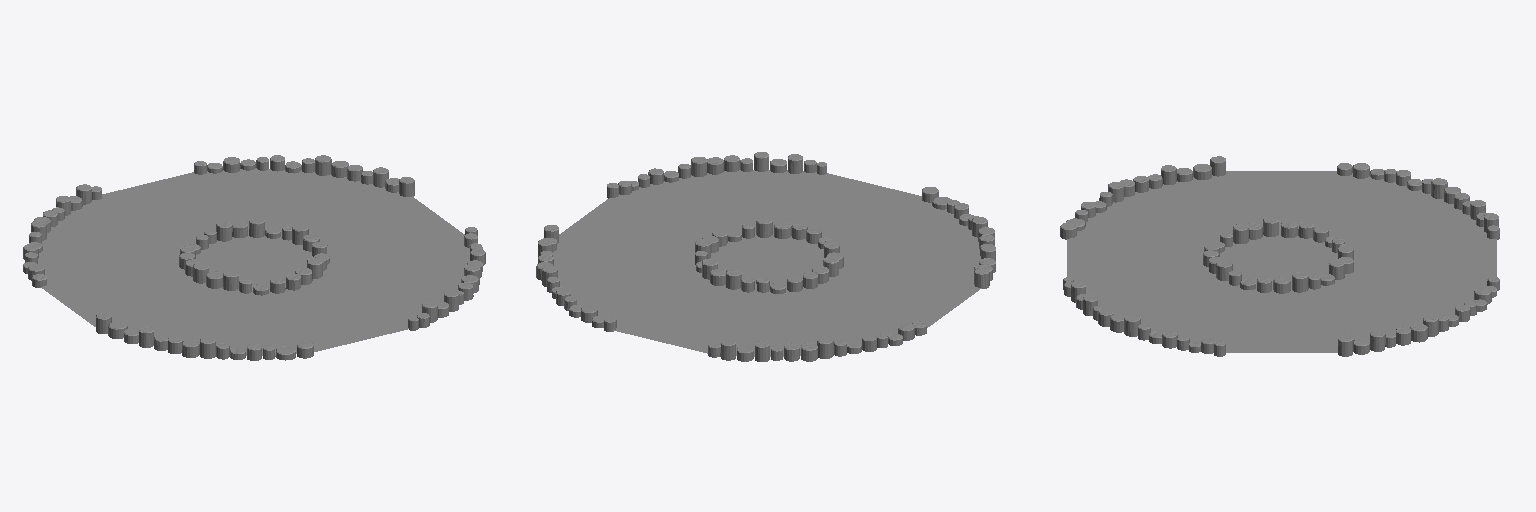
The model's file is land.obj.
3 views of the same model, side by side, from view 1: azimuth 30°, elevation 25°; view 2: azimuth 150°, elevation 25°; view 3: azimuth 270°, elevation 25° (orthographic).
Parts seen in each view (by area): view 1: object; view 2: object; view 3: object.
Part boxes in pixels (bbox=[...]): object: bbox=[23, 155, 485, 360]; object: bbox=[536, 152, 995, 361]; object: bbox=[1060, 156, 1499, 356].
Size of the model in its own units: 3.07 by 0.1217 by 3.07.